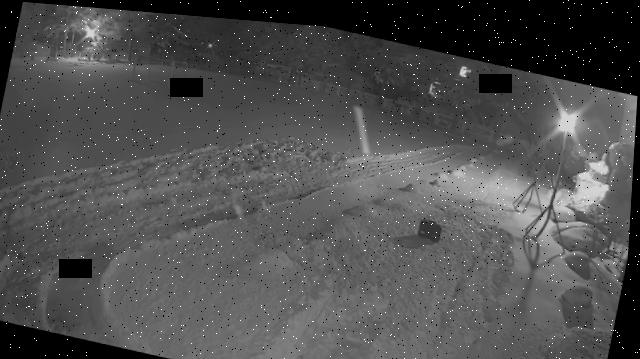bag: (419, 209, 443, 235)
